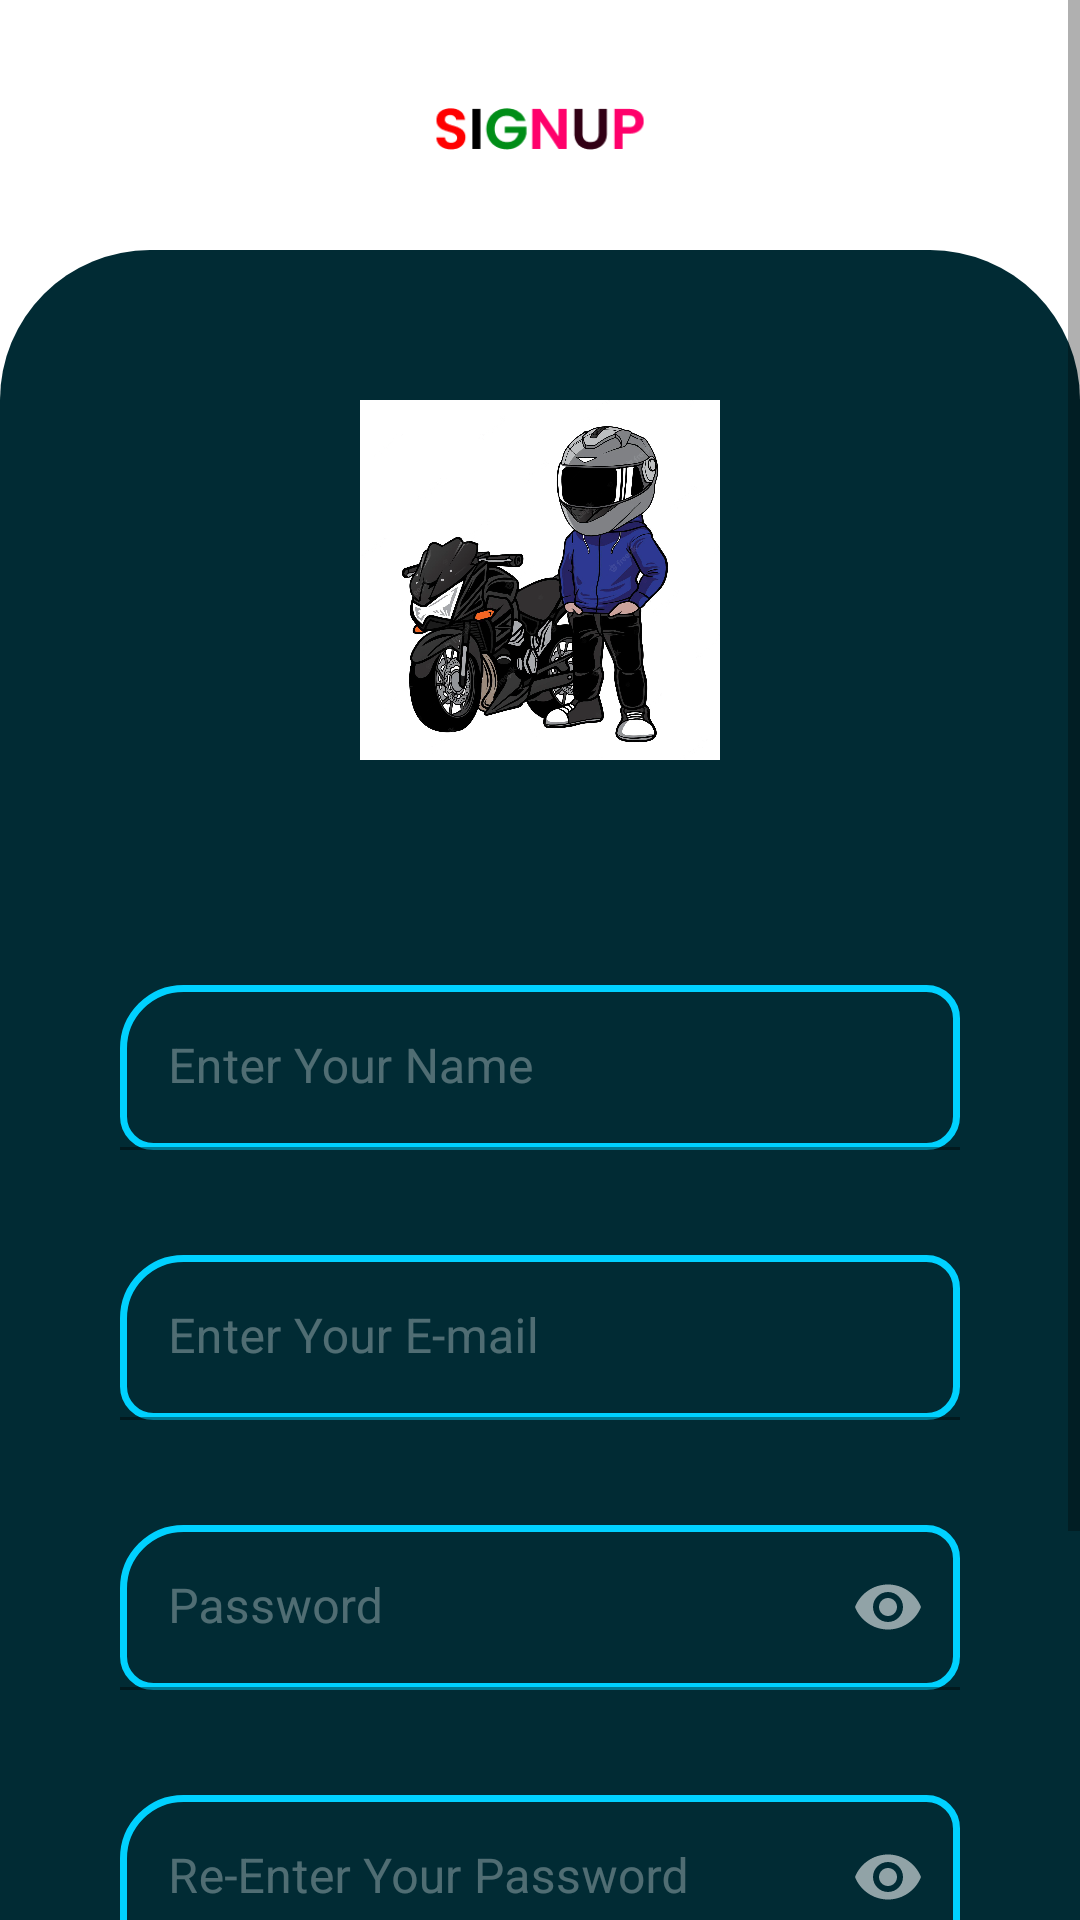

Named icons in this screenshot (1080*1920) and their centers, (x,y):
standingbike: (540,580)
